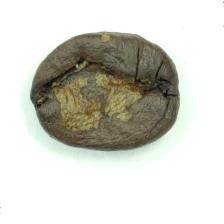NG: (45, 51, 160, 134)
